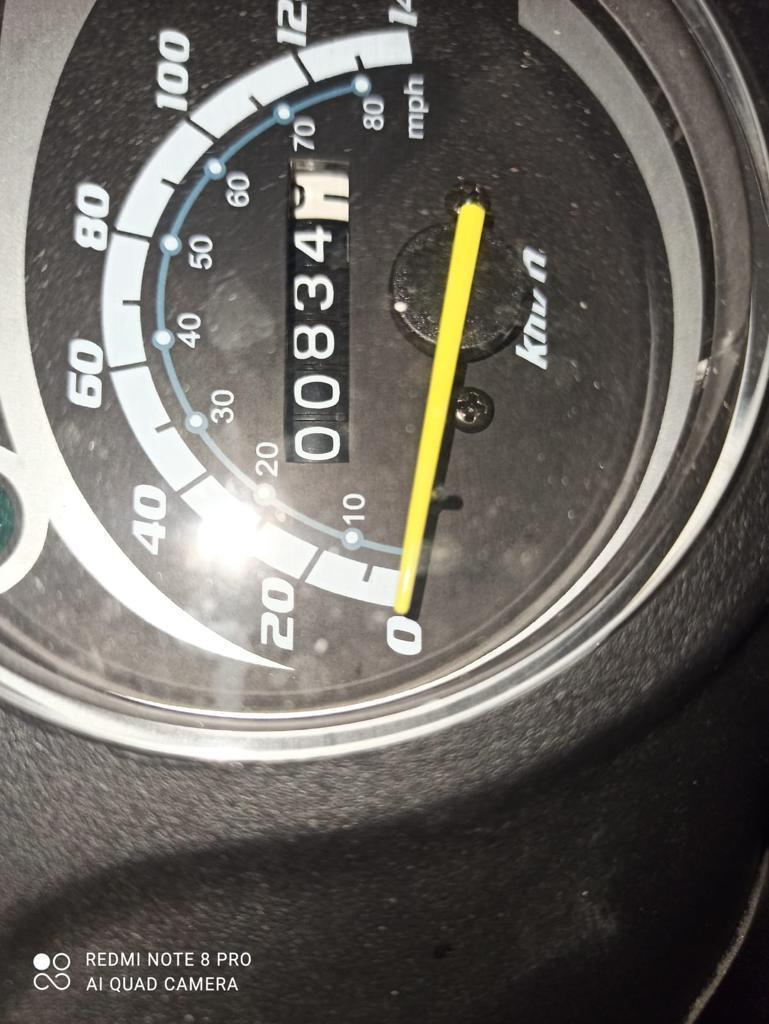0: (290, 371, 344, 411), (288, 425, 343, 464)
1: (316, 181, 352, 214)
3: (291, 270, 338, 314)
4: (289, 222, 339, 265)
8: (285, 321, 339, 364)
odometer: (274, 153, 362, 469)
